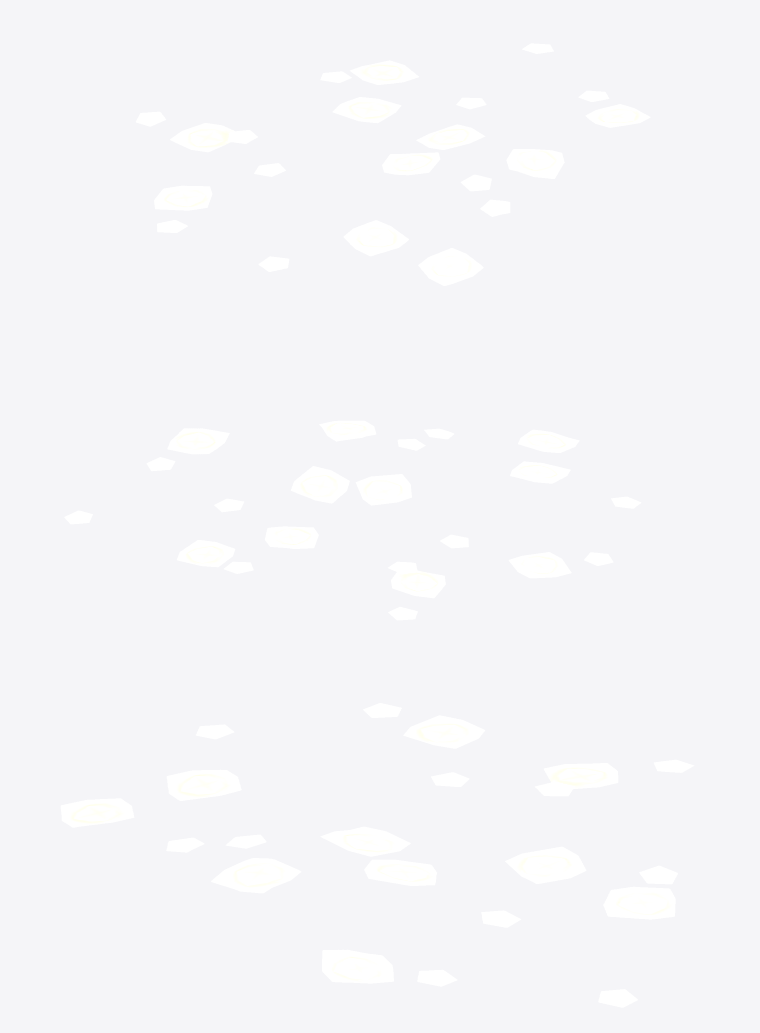
File: SM_Env_Flowers_Flat_01.glb
3 views of the same model, one above another, from view 1: azimuth 30°, elevation 25°; view 2: azimuth 150°, elevation 25°; view 3: azimuth 270°, elevation 25° (orthographic). The views are drawn at different scales.
Parts seen in each view (by area): view 1: SM_Env_Flowers_Flat_01; view 2: SM_Env_Flowers_Flat_01; view 3: SM_Env_Flowers_Flat_01.
Part boxes in pixels (x1,y1,x2,y2): SM_Env_Flowers_Flat_01: (136, 43, 650, 285); SM_Env_Flowers_Flat_01: (64, 420, 641, 620); SM_Env_Flowers_Flat_01: (60, 703, 694, 1007).
Bounding box in the file's own units: 2.07 × 0.1425 × 2.02.
1 material, 1 textured.
